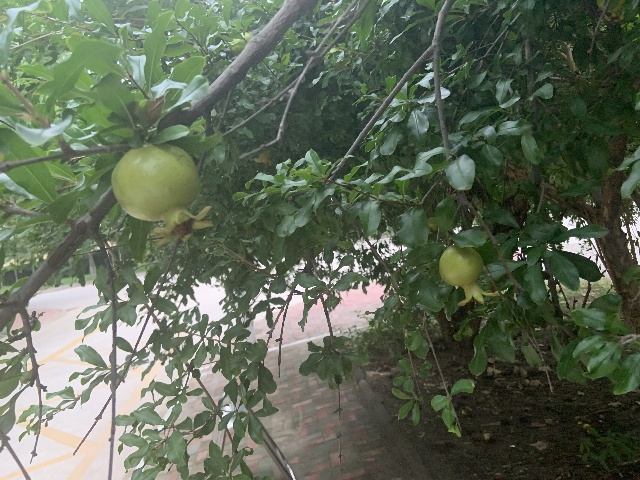mid-growth: (112, 143, 213, 246), (437, 245, 496, 306), (596, 0, 626, 23), (254, 150, 273, 167)
